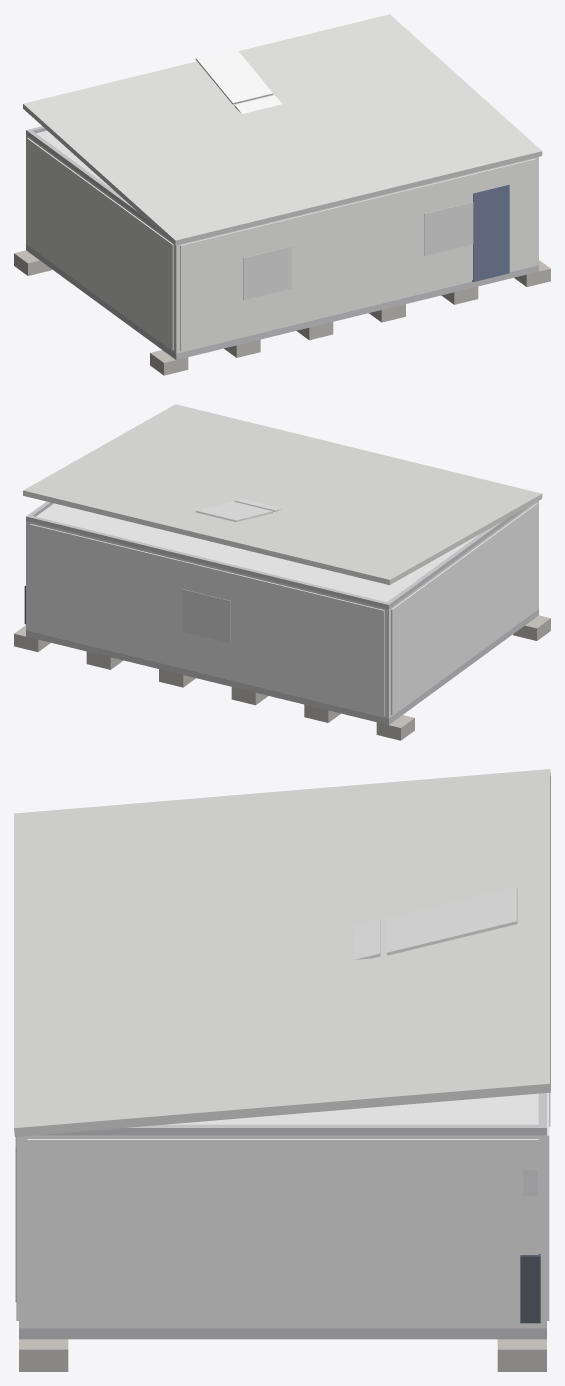
File: Studio-30-SlopingRoof+FullSolar-LOD1.glb
3 views of the same model, one above another, from view 1: azimuth 30°, elevation 25°; view 2: azimuth 150°, elevation 25°; view 3: azimuth 270°, elevation 25° (orthographic). The views are drawn at different scales.
Visible parts, largest first — view 1: RoofSlopingUpgrade, ExteriorPanelsStandard, WindowsStandard, BaseFrame, FoundationBlocks, EntryDoor, ExteriorShell, SolarPanelArray, TopFrame, InteriorCeiling; view 2: ExteriorPanelsStandard, RoofSlopingUpgrade, InteriorCeiling, ExteriorShell, TopFrame, BaseFrame, FoundationBlocks, WindowsStandard, SolarPanelArray; view 3: RoofSlopingUpgrade, ExteriorPanelsStandard, ExteriorShell, BaseFrame, SolarPanelArray, InteriorCeiling, TopFrame, FoundationBlocks, SolarBattery.
Boxes of the visible parts, x1,y1,x2,y2 form: RoofSlopingUpgrade: [23, 14, 542, 245]; ExteriorPanelsStandard: [27, 138, 535, 350]; WindowsStandard: [243, 202, 473, 300]; BaseFrame: [26, 244, 538, 359]; FoundationBlocks: [14, 250, 550, 375]; EntryDoor: [472, 184, 509, 281]; ExteriorShell: [26, 134, 538, 353]; SolarPanelArray: [195, 48, 281, 113]; TopFrame: [26, 126, 161, 233]; InteriorCeiling: [36, 130, 112, 189]; ExteriorPanelsStandard: [29, 503, 537, 715]; RoofSlopingUpgrade: [23, 404, 542, 584]; InteriorCeiling: [36, 503, 479, 602]; ExteriorShell: [26, 501, 538, 718]; TopFrame: [26, 501, 528, 608]; BaseFrame: [26, 609, 538, 724]; FoundationBlocks: [14, 615, 550, 740]; WindowsStandard: [182, 589, 230, 642]; SolarPanelArray: [195, 498, 281, 521]; RoofSlopingUpgrade: [14, 769, 550, 1136]; ExteriorPanelsStandard: [16, 1093, 549, 1325]; ExteriorShell: [19, 1135, 546, 1328]; BaseFrame: [19, 1328, 546, 1339]; SolarPanelArray: [353, 886, 517, 959]; InteriorCeiling: [167, 1093, 538, 1124]; TopFrame: [39, 1093, 546, 1135]; FoundationBlocks: [19, 1339, 546, 1371]; SolarBattery: [520, 1254, 540, 1323].
Size of the model in its own units: 9.6 by 4.07 by 6.56.
